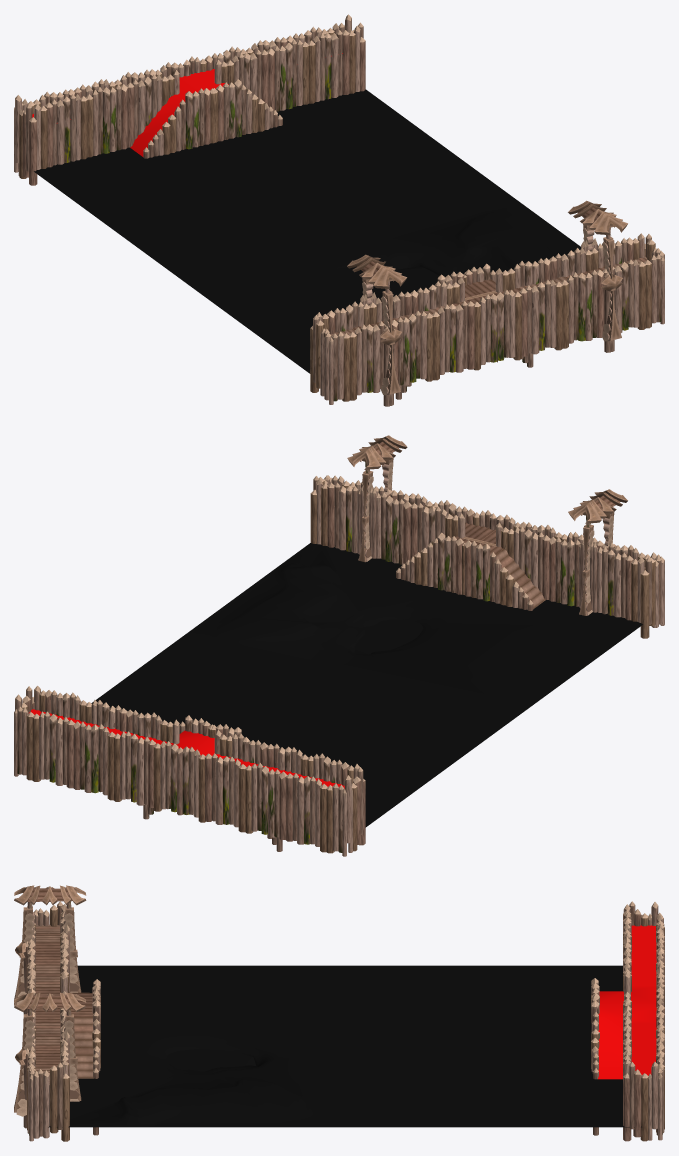
The model's file is Map1Terrain2.FBX.
3 renders of one model, top to bottom at view 1: azimuth 30°, elevation 25°; view 2: azimuth 150°, elevation 25°; view 3: azimuth 270°, elevation 25°, orthographic.
Parts seen in each view (by area): view 1: Terrain2, Wall2Terrain2, Wall1Terrain2, PlayerPath, WallFloor; view 2: Terrain2, Wall1Terrain2, Wall2Terrain2, WallFloor, PlayerPath; view 3: Terrain2, Wall2Terrain2, Wall1Terrain2, PlayerPath, WallFloor.
Part boxes in pixels (box(x1,y1,x2,y2)): Terrain2: box(34, 89, 580, 373); Wall2Terrain2: box(310, 200, 664, 406); Wall1Terrain2: box(14, 14, 365, 185); PlayerPath: box(32, 53, 342, 156); WallFloor: box(330, 257, 646, 336); Terrain2: box(91, 543, 642, 827); Wall1Terrain2: box(14, 685, 365, 856); Wall2Terrain2: box(310, 435, 664, 638); WallFloor: box(334, 506, 645, 608); PlayerPath: box(28, 709, 344, 788); Terrain2: box(48, 965, 641, 1127); Wall2Terrain2: box(14, 885, 100, 1141); Wall1Terrain2: box(591, 901, 664, 1141); PlayerPath: box(598, 925, 656, 1079); WallFloor: box(35, 925, 93, 1084).
Size of what is drawn, in the model's own units: 1984 by 922 by 3324.
